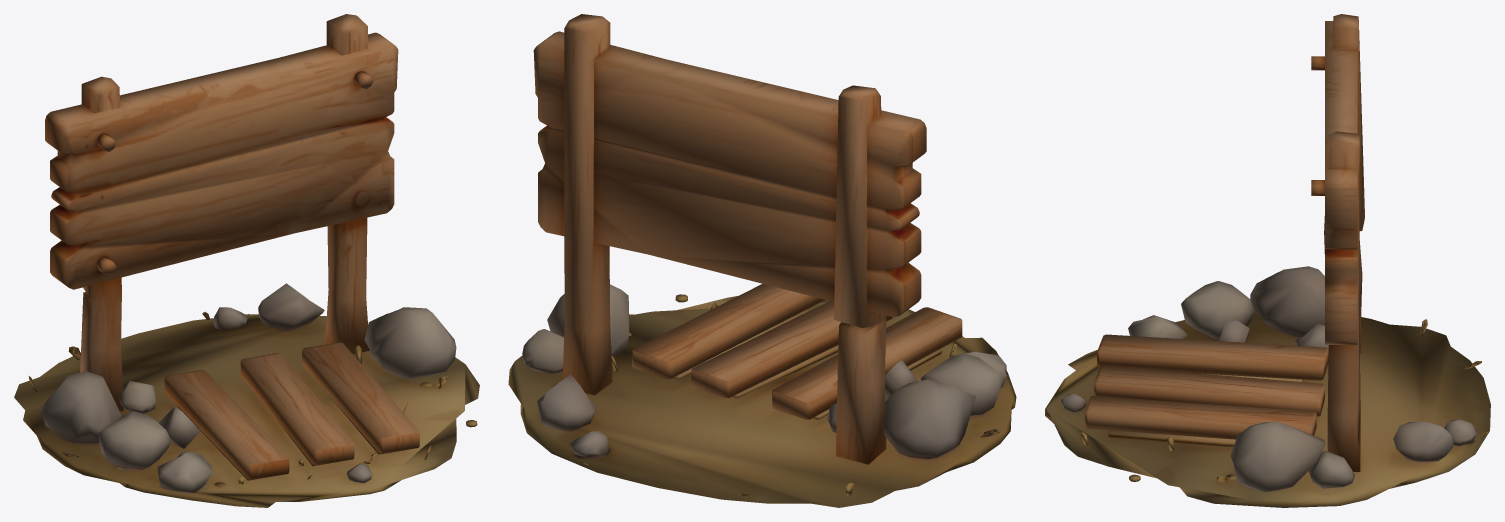
Rendered from chantier-construction.glb.
3 renders of one model, left to right at view 1: azimuth 30°, elevation 25°; view 2: azimuth 150°, elevation 25°; view 3: azimuth 270°, elevation 25°, orthographic. The views are drawn at different scales.
Parts seen in each view (by area): view 1: tripo_node_ffc5e5bd-0336-4e6a-9c4e-9f565d888035; view 2: tripo_node_ffc5e5bd-0336-4e6a-9c4e-9f565d888035; view 3: tripo_node_ffc5e5bd-0336-4e6a-9c4e-9f565d888035.
Part boxes in pixels (<box>): tripo_node_ffc5e5bd-0336-4e6a-9c4e-9f565d888035: <box>14,14,479,507</box>; tripo_node_ffc5e5bd-0336-4e6a-9c4e-9f565d888035: <box>508,14,1016,507</box>; tripo_node_ffc5e5bd-0336-4e6a-9c4e-9f565d888035: <box>1045,14,1490,507</box>.
Bounding box in the file's own units: 0.5579 × 0.44 × 0.5339.
Materials: 1 (1 with a texture image).
